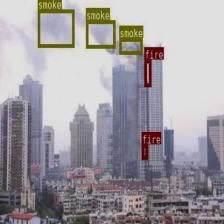fire: (144, 60, 151, 86), (142, 144, 148, 159)
smoke: (37, 9, 74, 47), (85, 20, 115, 47), (119, 37, 142, 54)
